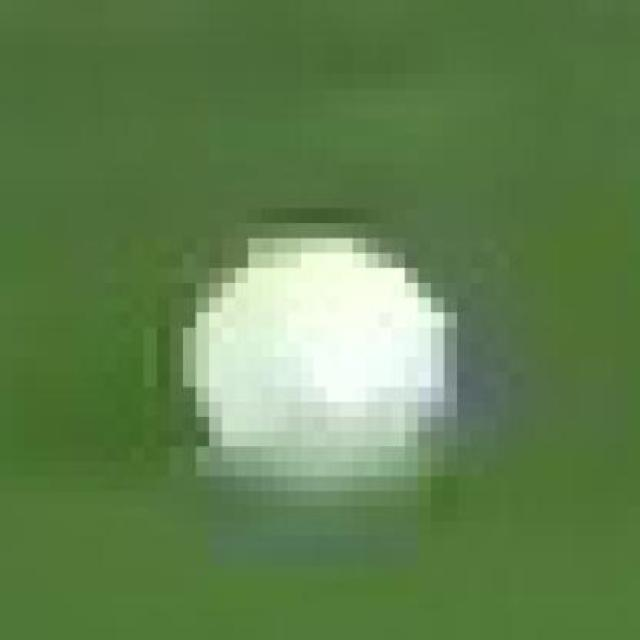Cricket ball: (166, 232, 478, 540)
